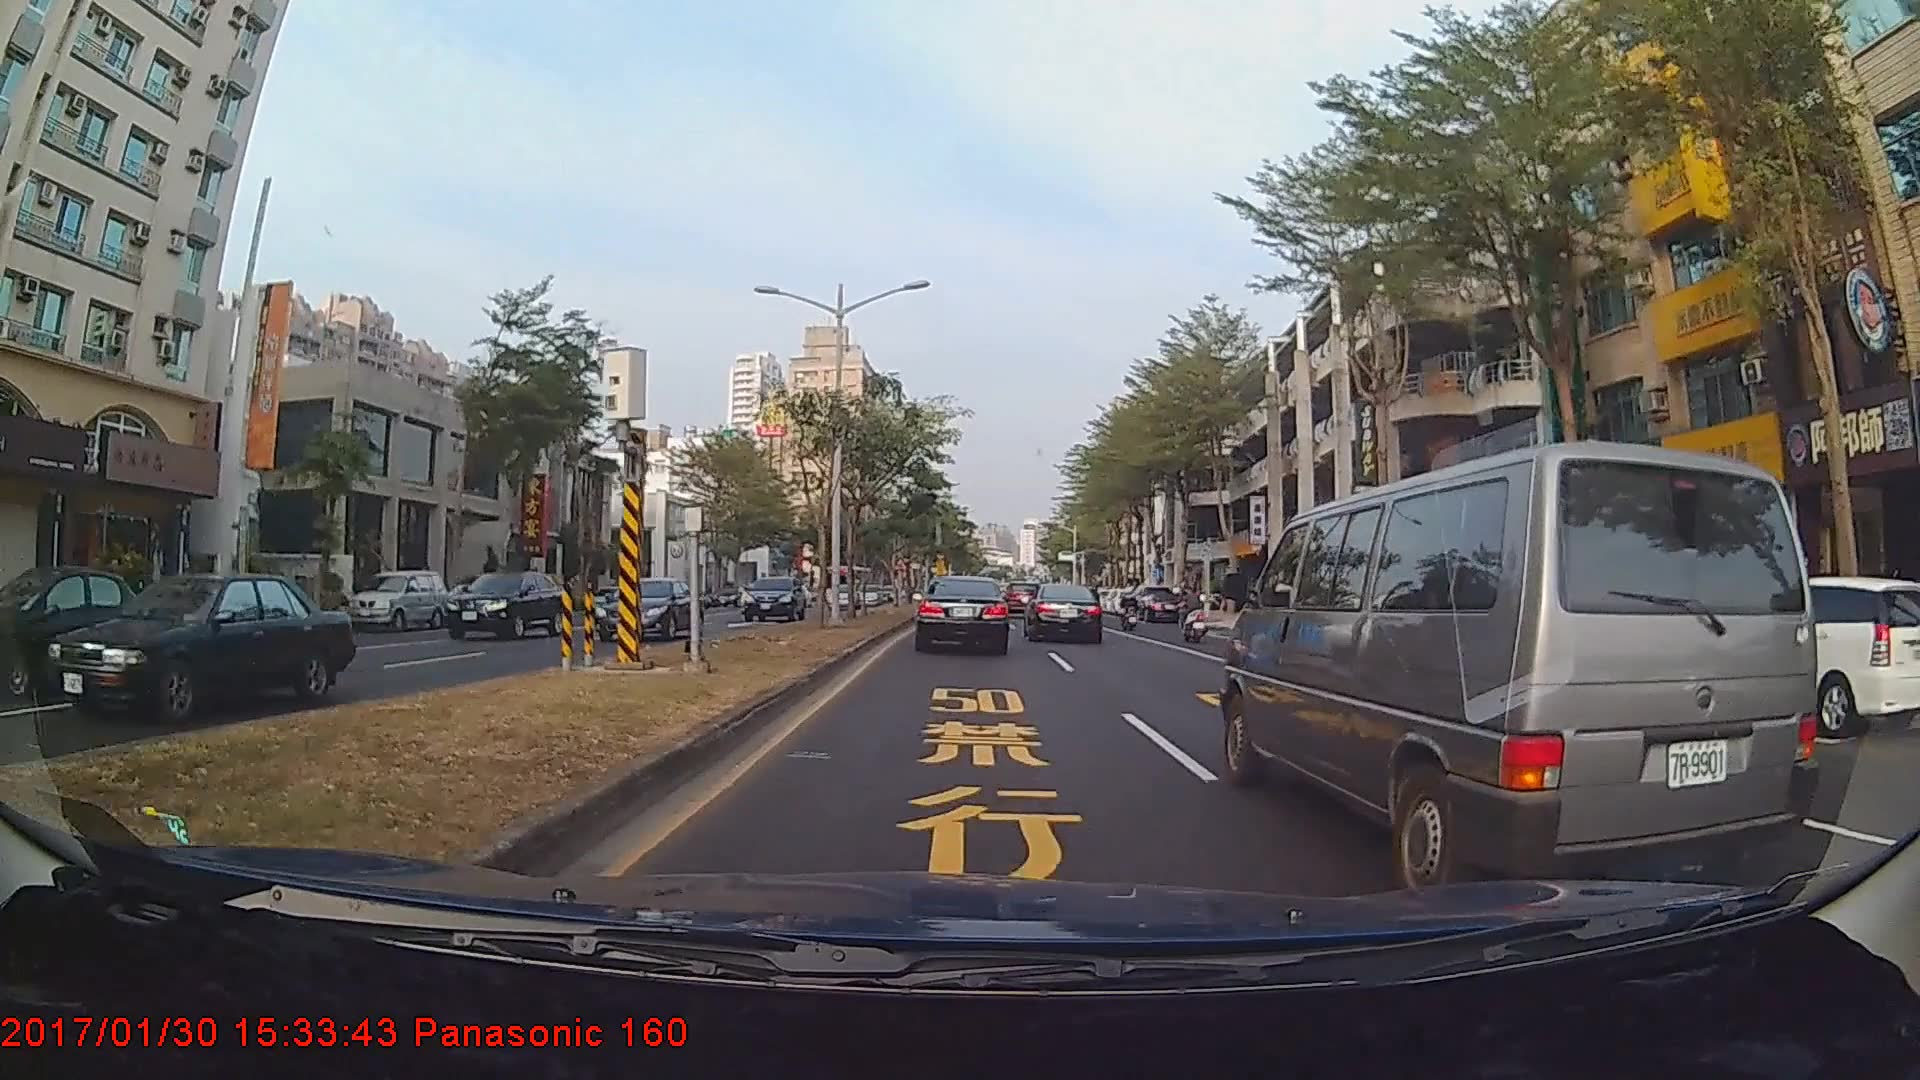rider: (1171, 580, 1216, 644)
vehicle: (1216, 425, 1837, 893), (40, 571, 359, 724), (0, 565, 150, 708), (441, 568, 567, 640), (591, 574, 704, 642), (915, 574, 1009, 654), (345, 569, 448, 630), (1025, 583, 1103, 644), (743, 570, 804, 618)
